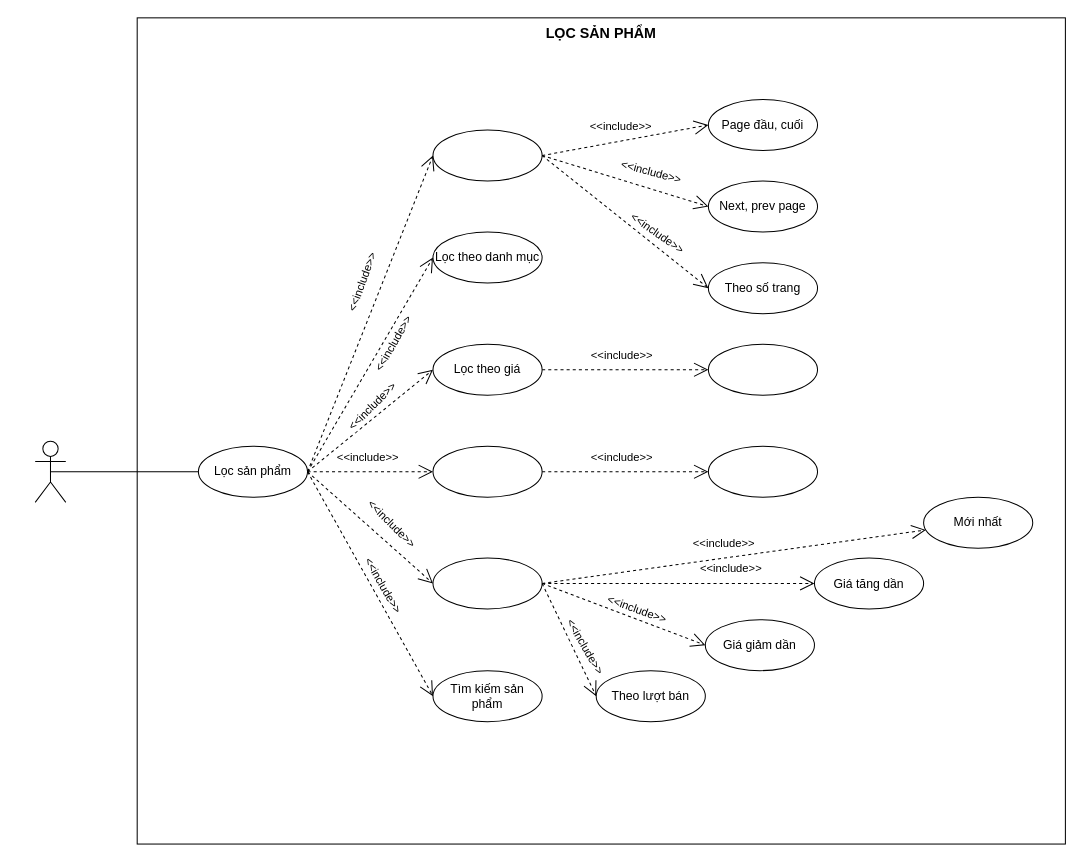
Image size: 1083x862. Some labels were removed from this diagram. Each missing label, with the box of its shape:
Khách hàng: (34, 440, 66, 502)
Lọc theo size: (432, 445, 542, 497)
Multi, detach giá: (707, 343, 818, 395)
Multi, detach size: (707, 445, 818, 497)
Phân trang: (432, 129, 542, 181)
Sắp xếp sản phẩm: (432, 557, 542, 609)
